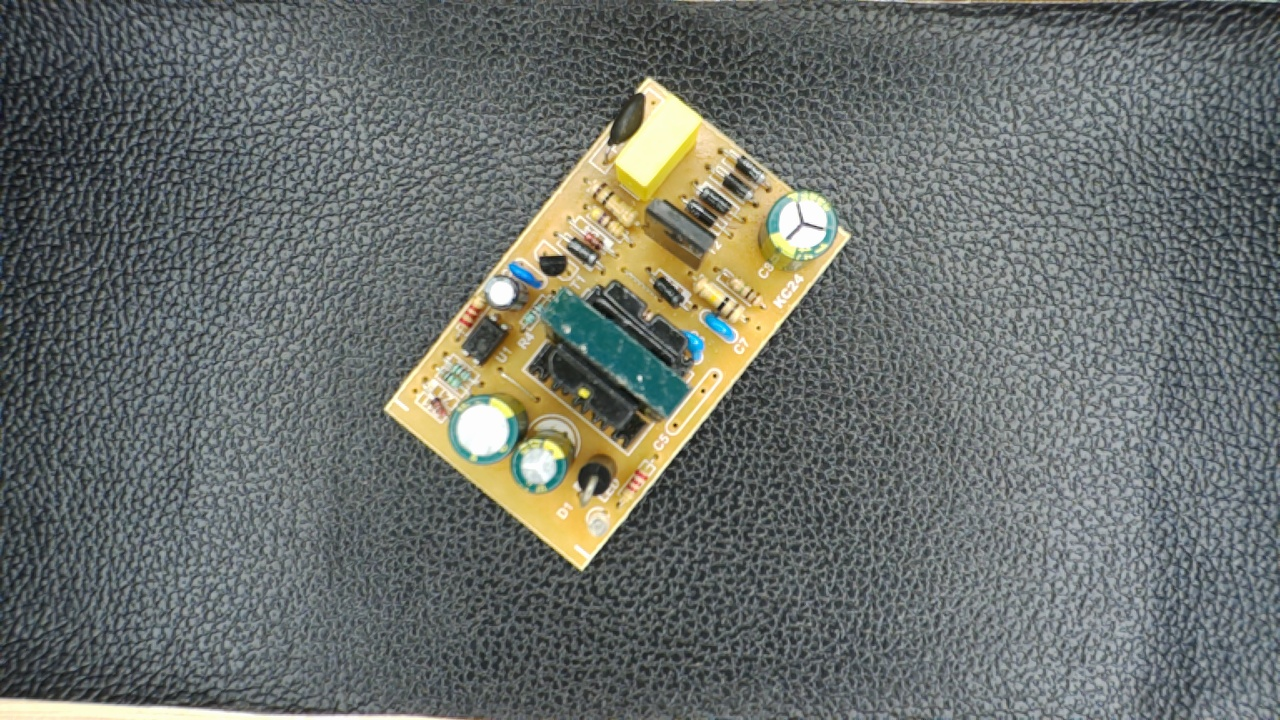fuse: (605, 89, 650, 165)
hv_capacitor: (755, 185, 842, 275)
optocoupler: (459, 312, 515, 369)
